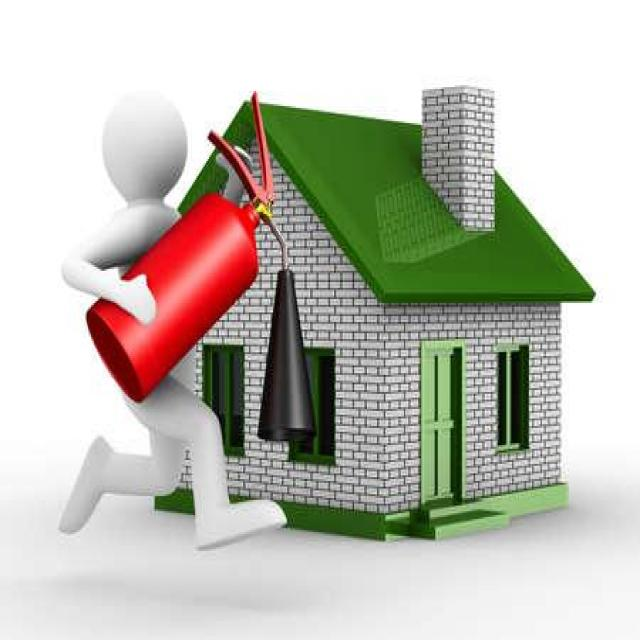fire_extinguisher: (80, 85, 320, 449)
